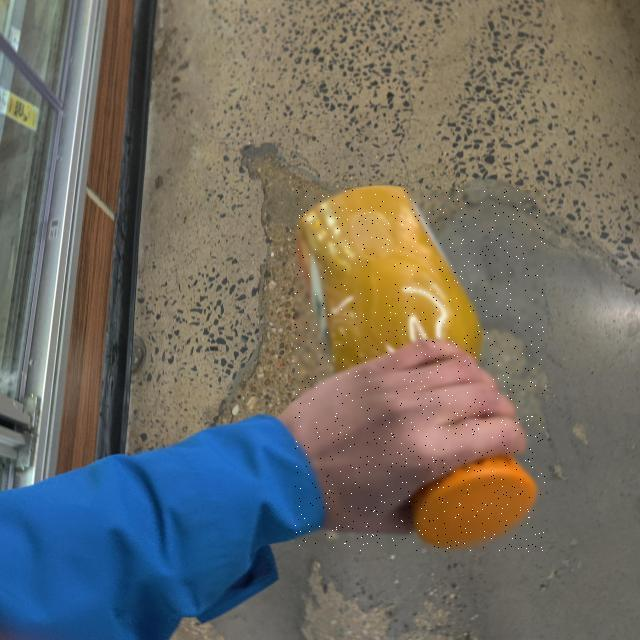Juice: (295, 190, 545, 552)
